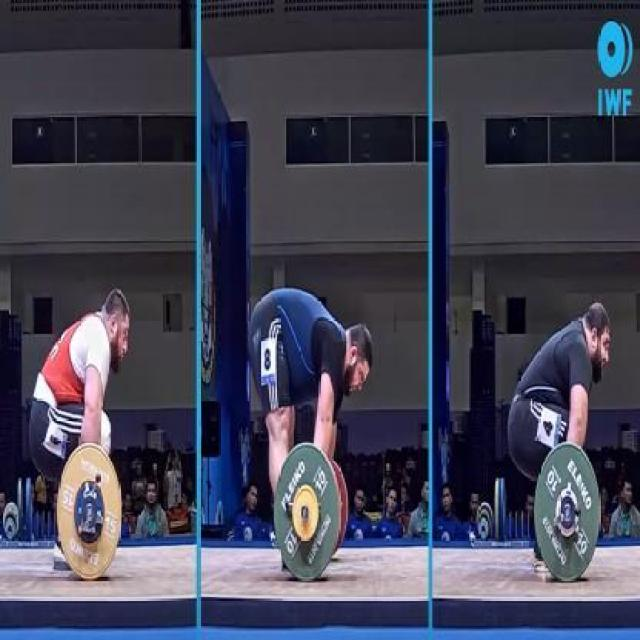barbell: (271, 438, 345, 589), (534, 438, 605, 590), (53, 441, 125, 585)
